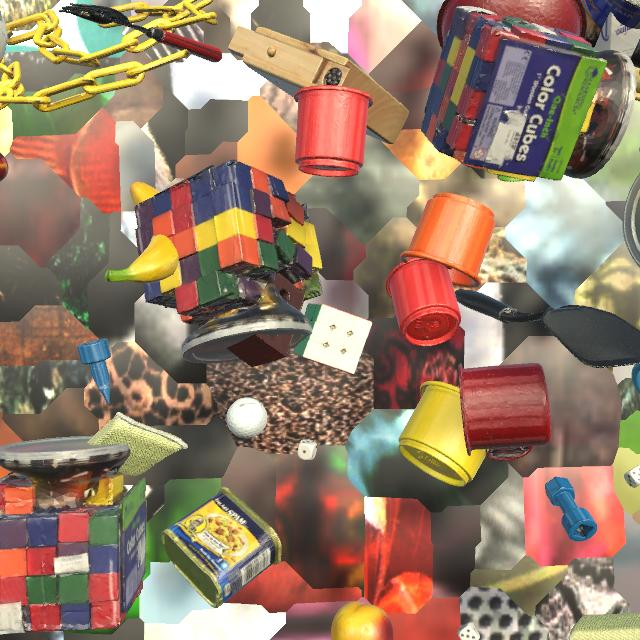ycb_002_master_chef_can: (581, 0, 640, 48)
ycb_004_sugar_box: (594, 12, 640, 58)
ycb_010_potted_meat_can: (161, 487, 282, 608)
ycb_011_banana: (105, 182, 179, 284)
ycb_015_peach: (331, 601, 394, 640)
